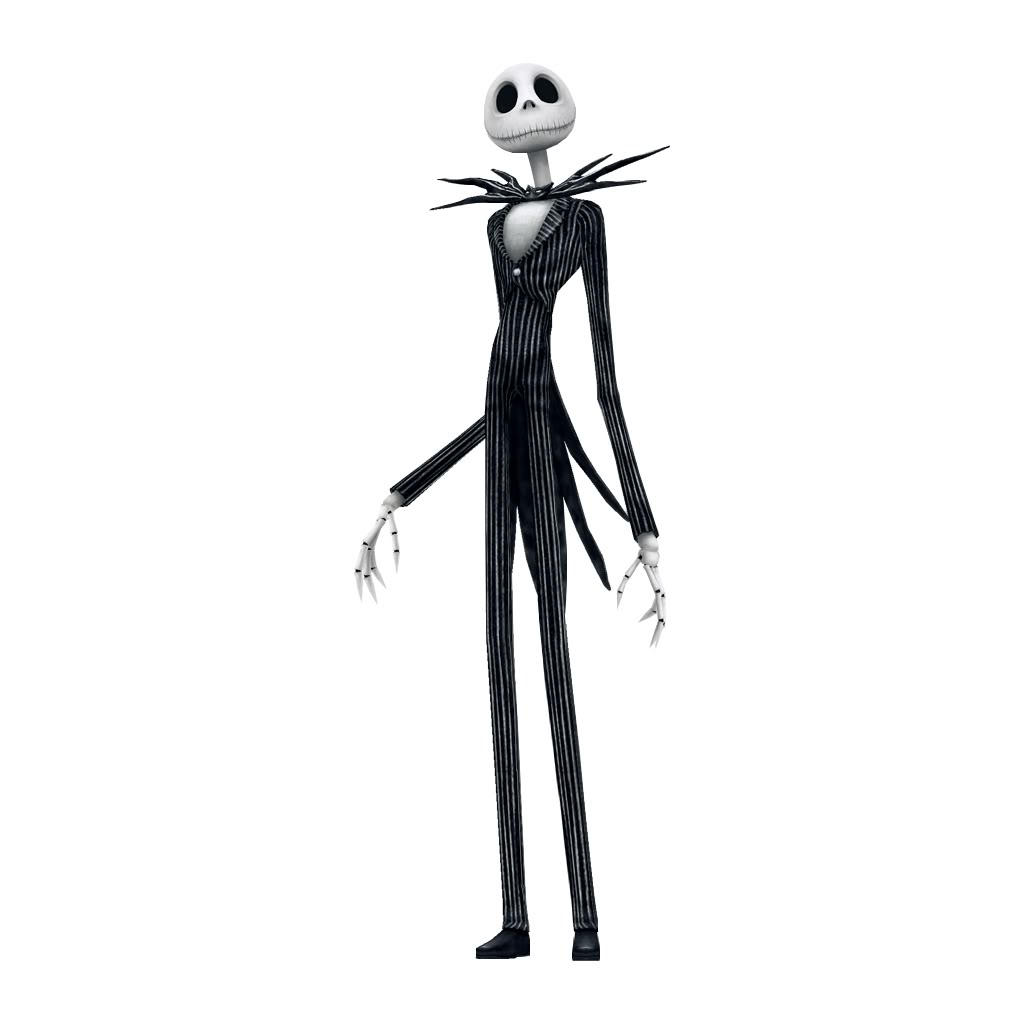Jack Skellington: (350, 60, 672, 964)
